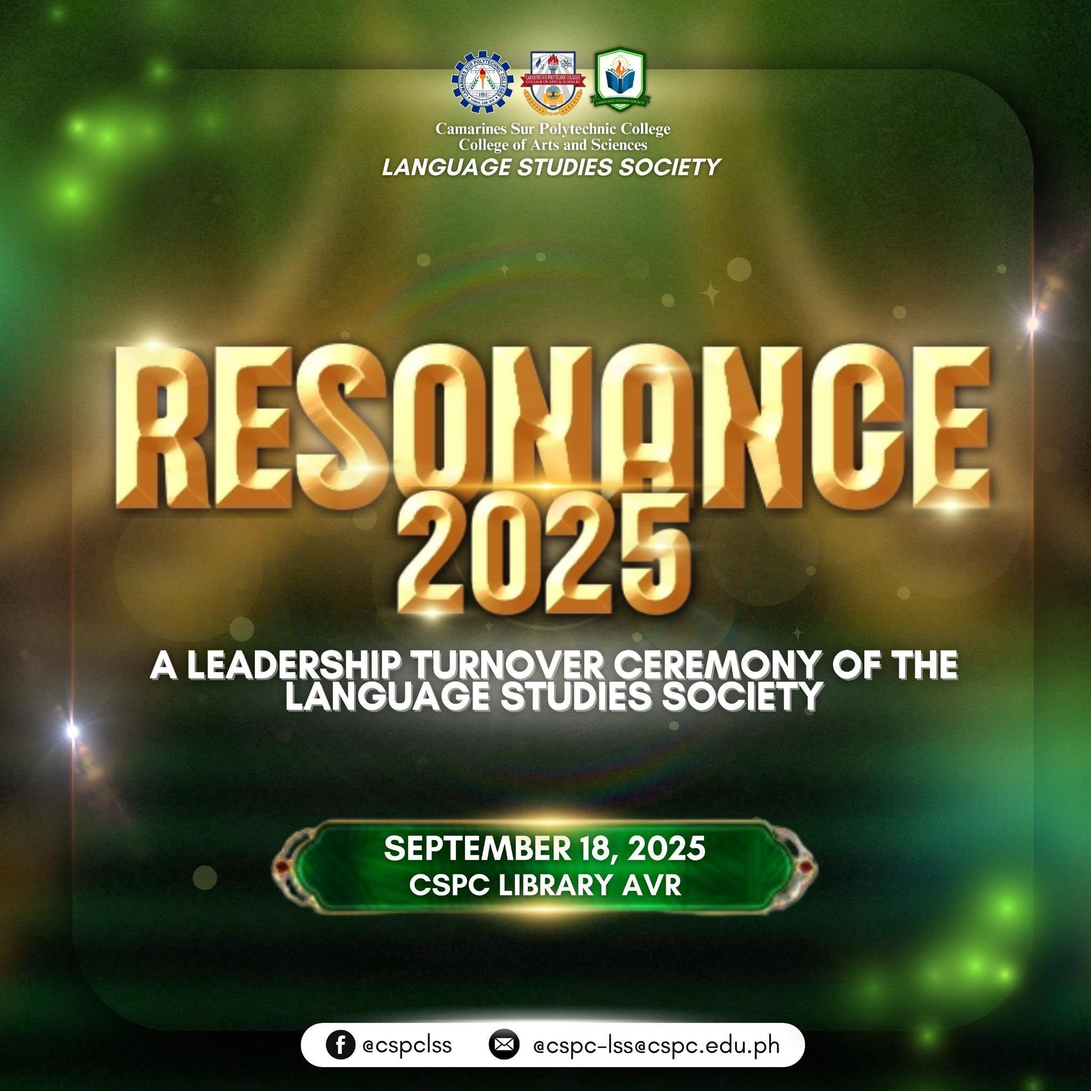embellishment: (321, 1029, 361, 1063), (491, 1028, 519, 1060)
logo: (443, 37, 516, 115), (591, 39, 656, 118), (522, 43, 587, 119)
text: (105, 330, 1002, 619), (143, 638, 968, 713), (371, 115, 731, 186), (370, 830, 716, 902), (529, 1025, 787, 1061), (361, 1032, 454, 1058)
underlay: (70, 67, 1038, 1038), (263, 810, 840, 919), (302, 1018, 805, 1067)
